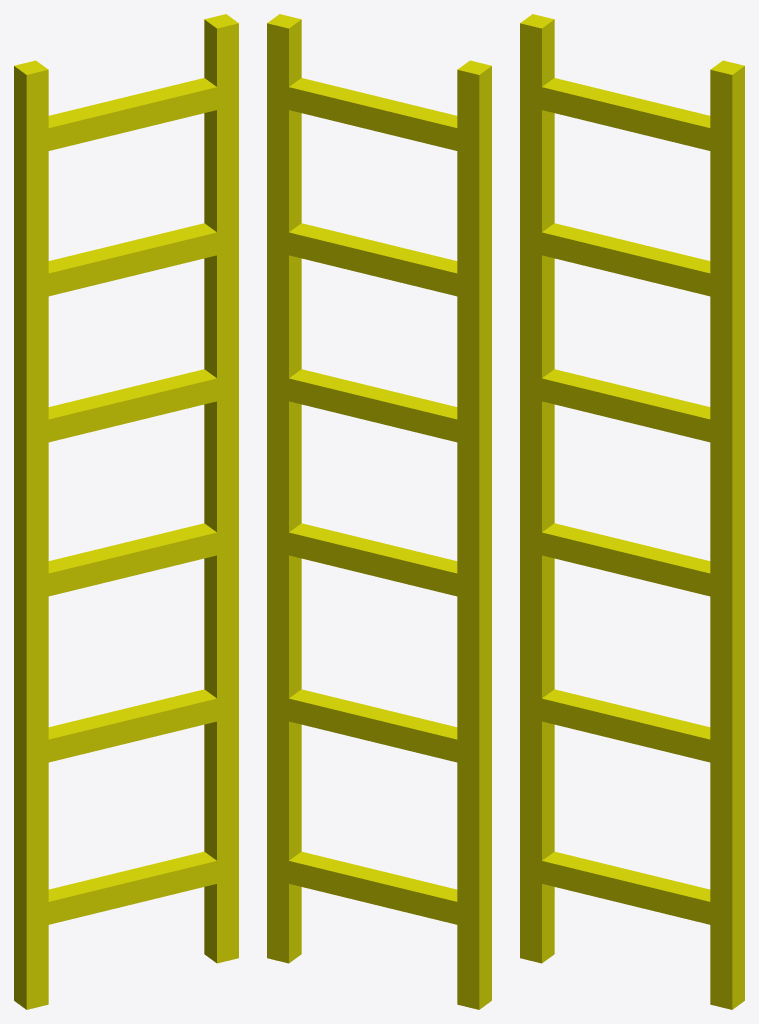
Rendered from ladder.fbx.
3 renders of one model, left to right at view 1: azimuth 30°, elevation 25°; view 2: azimuth 150°, elevation 25°; view 3: azimuth 330°, elevation 25°, orthographic.
Parts seen in each view (by area): view 1: pCube26; view 2: pCube26; view 3: pCube26.
Boxes of the visible parts, x1=… form: pCube26: x1=14, y1=14, x2=238, y2=1009; pCube26: x1=267, y1=14, x2=491, y2=1009; pCube26: x1=520, y1=14, x2=744, y2=1009.
Bounding box in the file's own units: 2.5 × 10.54 × 0.2586.
